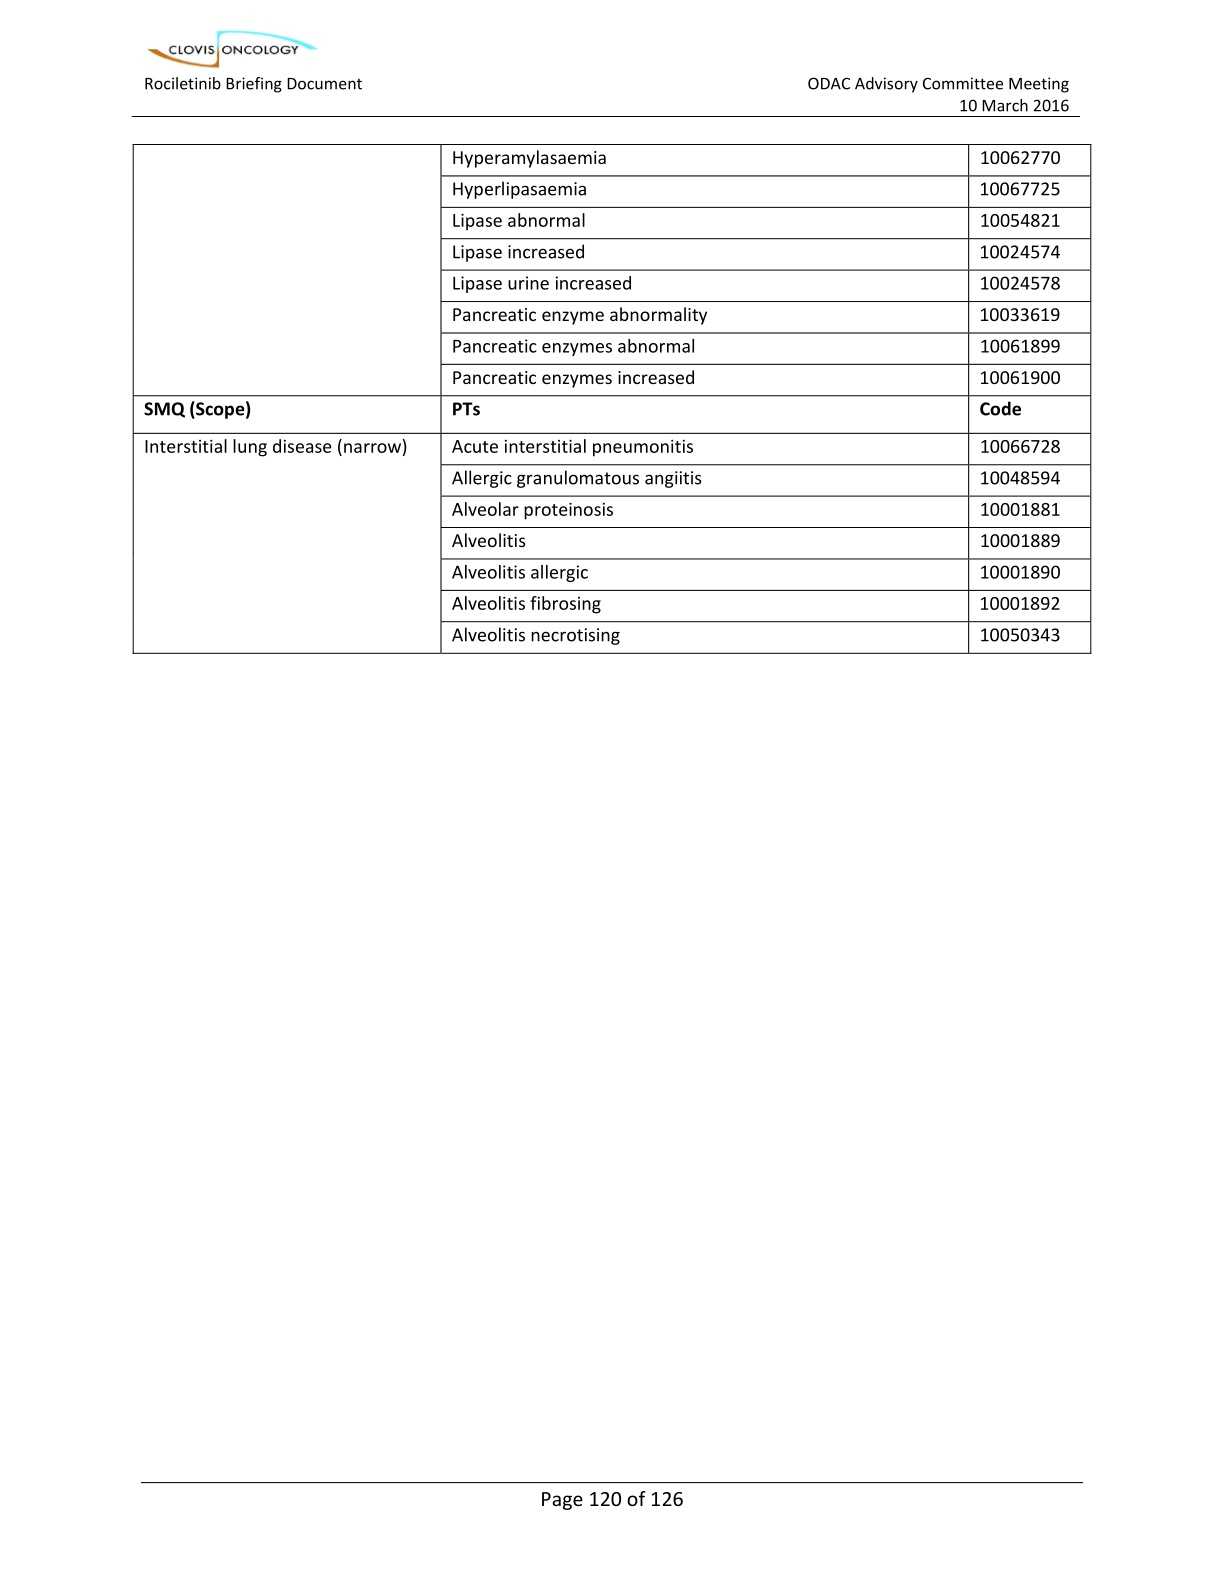merged_cells: (132, 143, 1093, 656)
